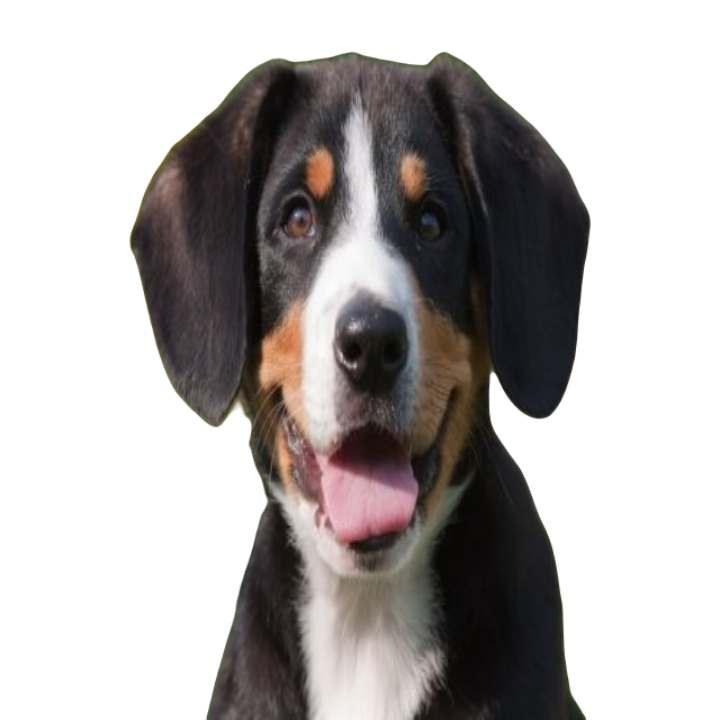Dog: (128, 15, 592, 719)
